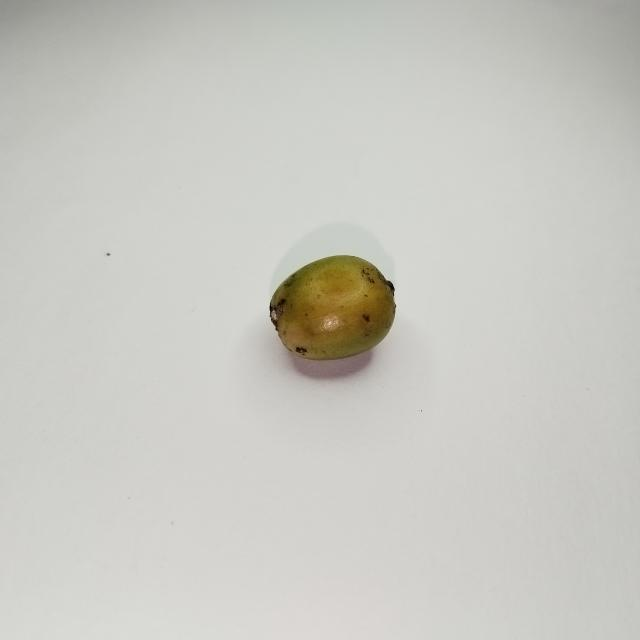Sano: (270, 255, 395, 360)
